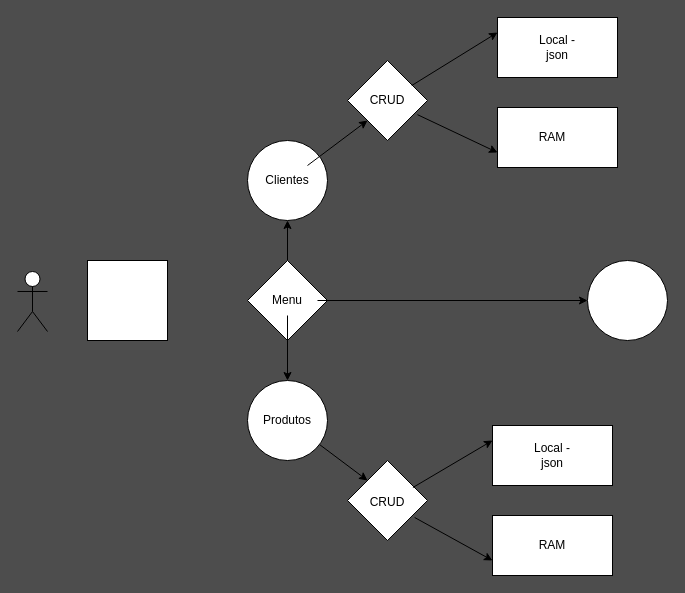
This 685x593 diagram has some shape labels left out. The centre of each missing label's shape, as x and y in pixels:
"Actor" belongs at [32,301].
"Program" belongs at [127,300].
"Sair" belongs at [627,300].
